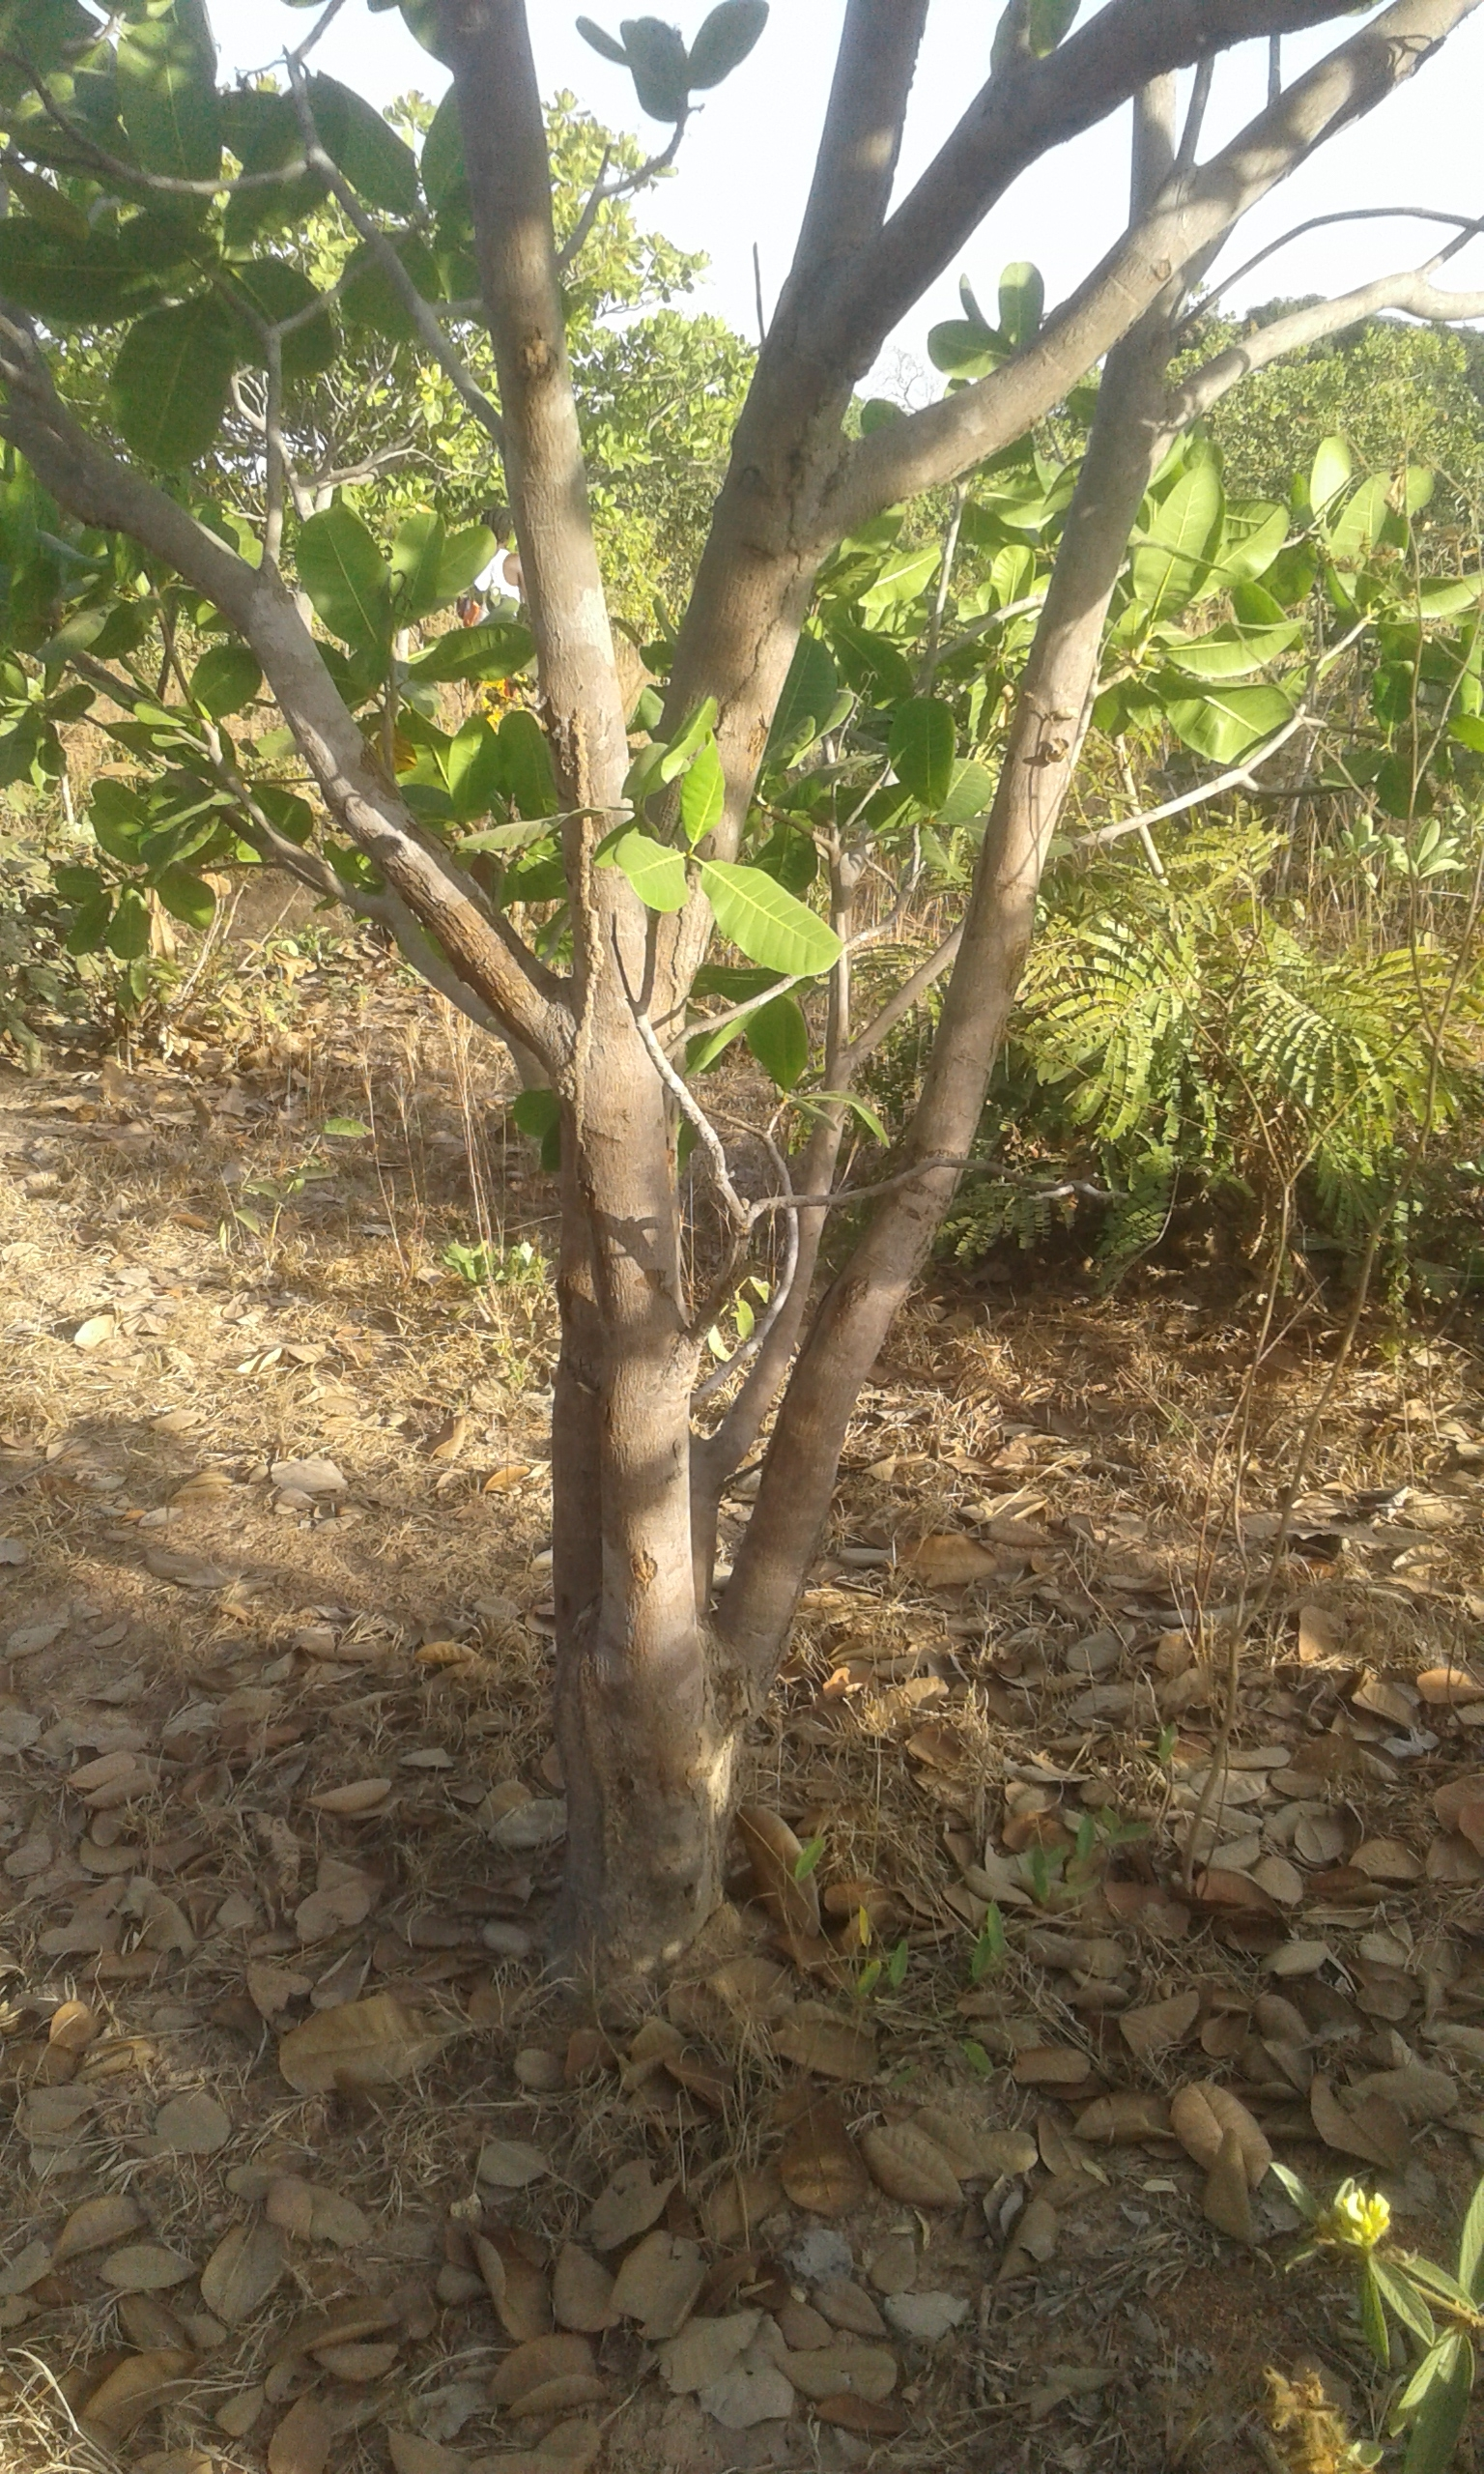Termites: (560, 735, 645, 1894)
